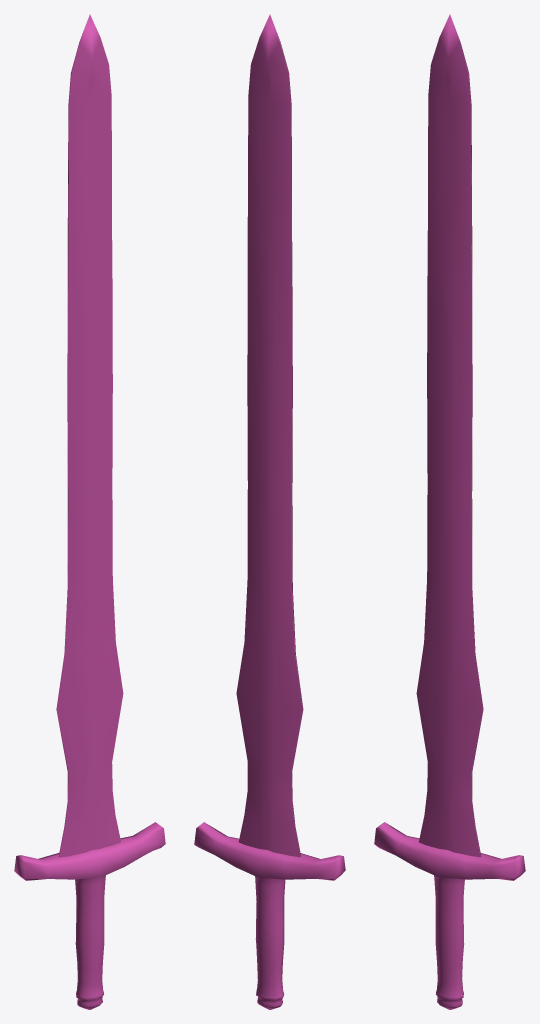
File: Sword.fbx
The picture shows the model from 3 angles, left to right: view 1: azimuth 30°, elevation 25°; view 2: azimuth 150°, elevation 25°; view 3: azimuth 330°, elevation 25°; orthographic projection.
Parts seen in each view (by area): view 1: Sword1; view 2: Sword1; view 3: Sword1.
Part boxes in pixels (x1=…): Sword1: x1=14, y1=14, x2=165, y2=1009; Sword1: x1=194, y1=14, x2=345, y2=1009; Sword1: x1=374, y1=14, x2=525, y2=1009.
Bounding box in the file's own units: 12.83 × 86.83 × 3.56.
